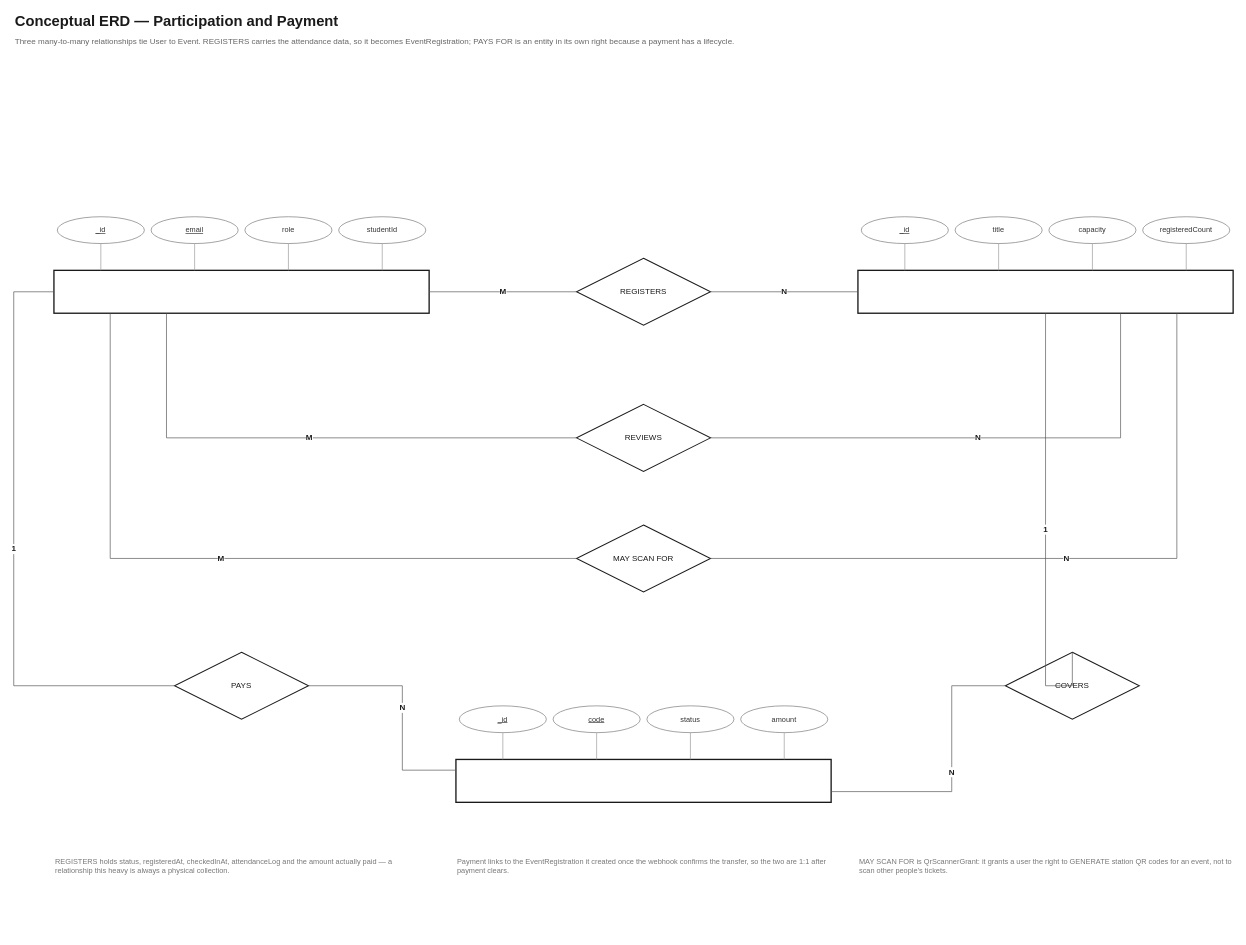
Some shapes in this 1246 by 945 pixel diagram are drawn without their labels. The centre of each missing label's shape, as x and y in pixels:
Event: point 1045,291
Payment: point 643,780
User: point 241,291
